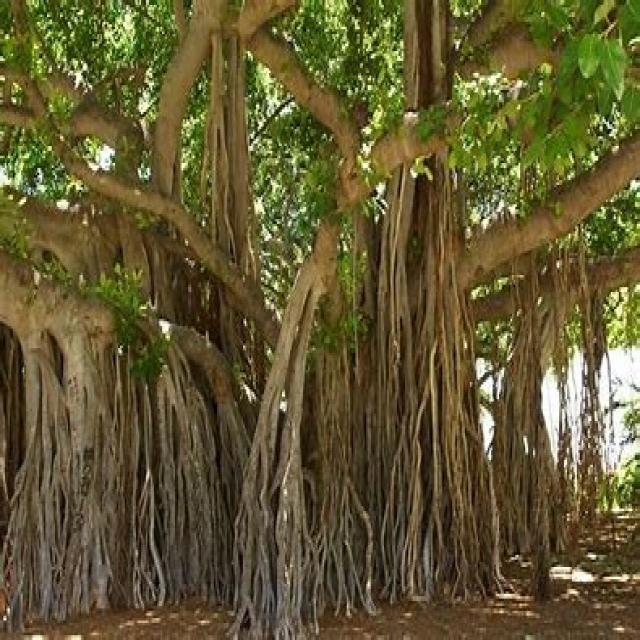Banyan-Tree: (0, 0, 640, 640), (0, 132, 640, 640)
